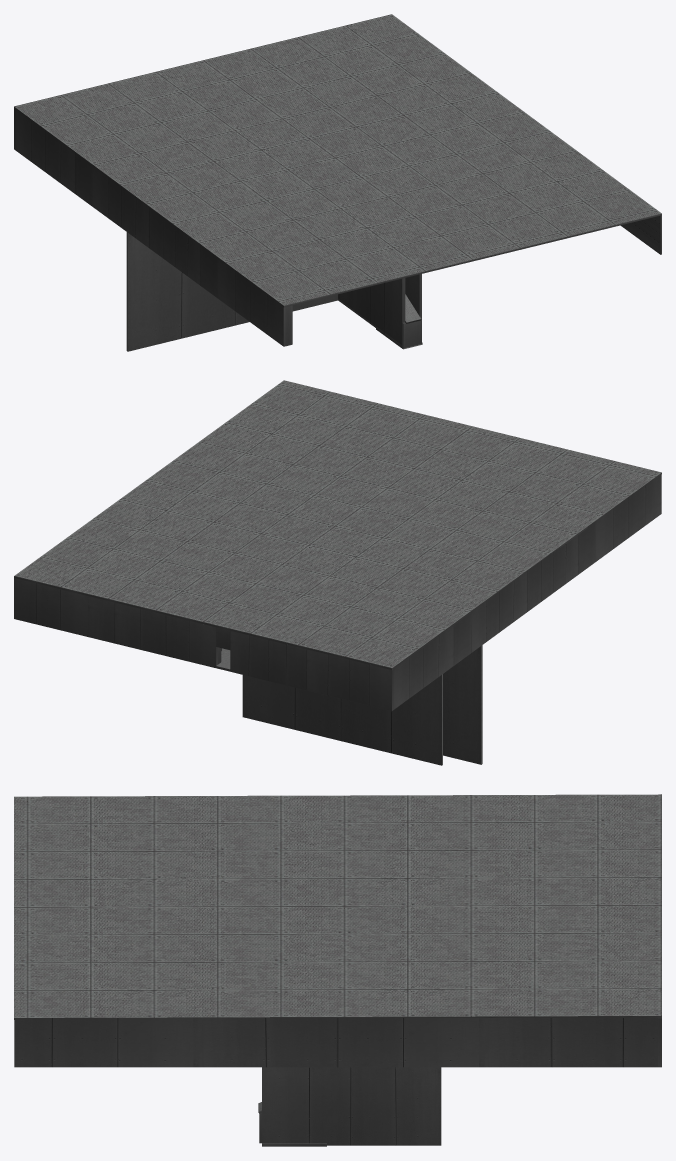
File: BeaconMap2.fbx
The picture shows the model from 3 angles, top to bottom: view 1: azimuth 30°, elevation 25°; view 2: azimuth 150°, elevation 25°; view 3: azimuth 270°, elevation 25°; orthographic projection. The views are drawn at different scales.
Parts seen in each view (by area): view 1: Cube__9_, Cube__10_, Cube__323__1, Cube__320__1, Cube__11_, Cube__321__1, Cube__281__1_001; view 2: Cube__9_, Cube__10_, Cube__322__1, Cube__4_, Cube__1_, Cube__323__1; view 3: Cube__9_, Cube__11_, Cube__321__1.
Part boxes in pixels (left/top/right/bottom): Cube__9_: left=14, top=14, right=661, bottom=307; Cube__10_: left=15, top=110, right=292, bottom=346; Cube__323__1: left=126, top=232, right=337, bottom=351; Cube__320__1: left=338, top=278, right=405, bottom=346; Cube__11_: left=620, top=215, right=661, bottom=254; Cube__321__1: left=405, top=274, right=421, bottom=318; Cube__281__1_001: left=402, top=319, right=421, bottom=348; Cube__9_: left=14, top=380, right=661, bottom=669; Cube__10_: left=393, top=473, right=661, bottom=709; Cube__322__1: left=244, top=674, right=442, bottom=765; Cube__4_: left=14, top=578, right=217, bottom=667; Cube__1_: left=230, top=630, right=393, bottom=710; Cube__323__1: left=443, top=645, right=482, bottom=764; Cube__9_: left=14, top=794, right=661, bottom=1019; Cube__11_: left=14, top=1018, right=657, bottom=1067; Cube__321__1: left=262, top=1067, right=441, bottom=1145.
Bounding box in the file's own units: 12899 × 5715 × 15954.
